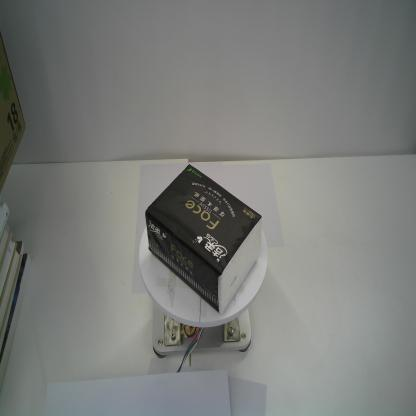Tissue: (145, 163, 262, 315)
